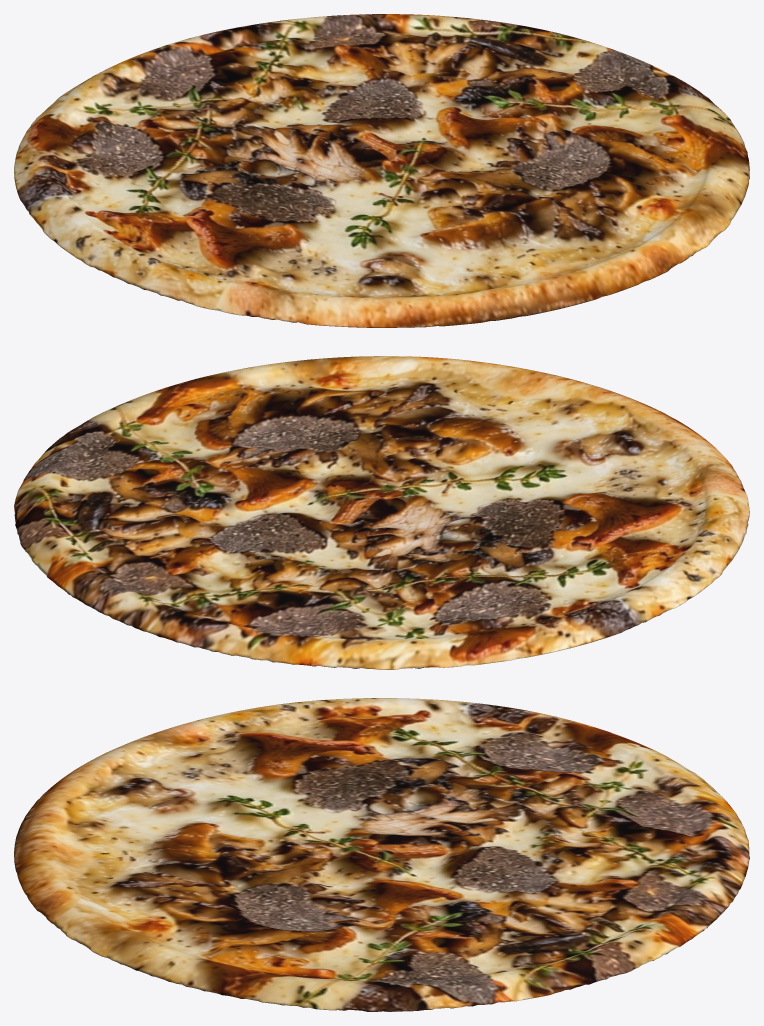
Rendered from mushroom-truffle-pizza.glb.
3 views of the same model, one above another, from view 1: azimuth 30°, elevation 25°; view 2: azimuth 150°, elevation 25°; view 3: azimuth 270°, elevation 25° (orthographic).
Parts seen in each view (by area): view 1: Artisan_Pizza; view 2: Artisan_Pizza; view 3: Artisan_Pizza.
Part boxes in pixels (bbox=[...]): Artisan_Pizza: bbox=[14, 14, 749, 327]; Artisan_Pizza: bbox=[14, 356, 749, 669]; Artisan_Pizza: bbox=[14, 698, 749, 1011].
Bounding box in the file's own units: 2.39 × 0.0553 × 2.39.
1 material, 1 textured.
